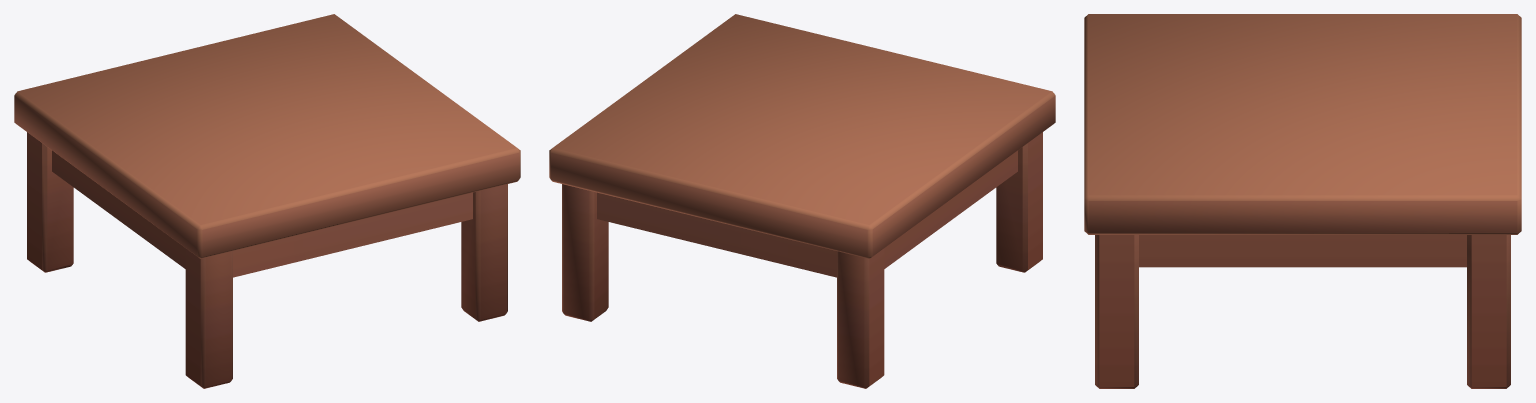
File: table_medium.glb
3 views of the same model, side by side, from view 1: azimuth 30°, elevation 25°; view 2: azimuth 150°, elevation 25°; view 3: azimuth 270°, elevation 25° (orthographic). The views are drawn at different scales.
Visible parts, largest first — view 1: table_medium; view 2: table_medium; view 3: table_medium.
Boxes of the visible parts, x1,y1,x2,y2 form: table_medium: (14,14,520,388); table_medium: (549,14,1055,388); table_medium: (1084,14,1521,388).
Bounding box in the file's own units: 2 × 1 × 2.
1 material, 1 textured.
